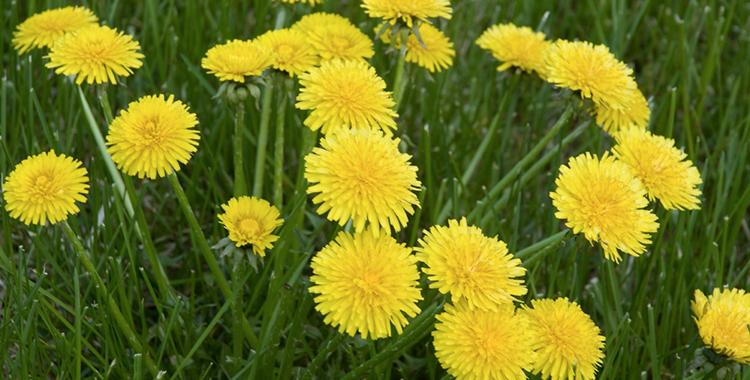dandelion: (540, 144, 655, 266), (441, 307, 608, 380), (307, 135, 429, 215), (315, 230, 414, 328), (609, 129, 718, 215), (289, 69, 420, 125), (424, 230, 523, 301), (558, 37, 647, 115), (110, 99, 203, 170), (8, 149, 91, 223), (687, 275, 750, 355), (480, 19, 555, 86), (216, 192, 282, 266), (270, 23, 383, 66), (54, 35, 153, 82), (381, 24, 466, 68), (16, 13, 98, 56), (202, 41, 268, 83), (364, 1, 454, 23)
